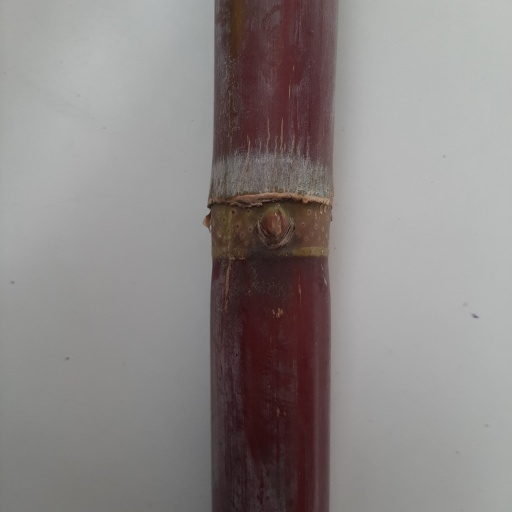Bud: (256, 201, 294, 250)
